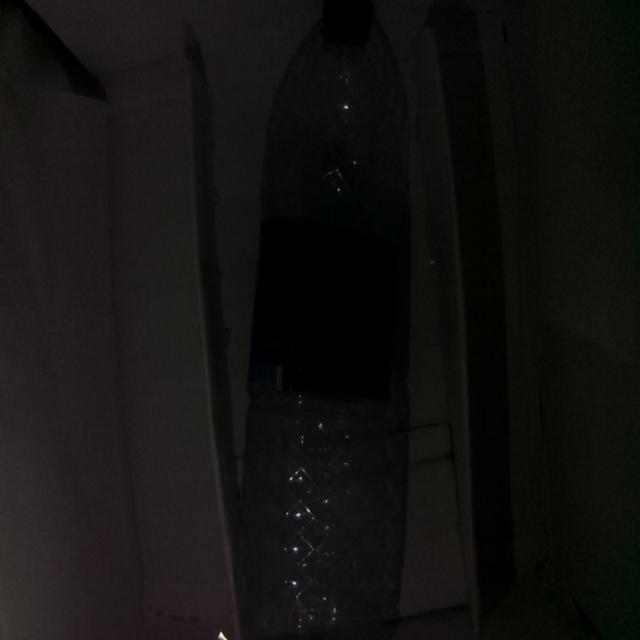good: (234, 0, 434, 640)
